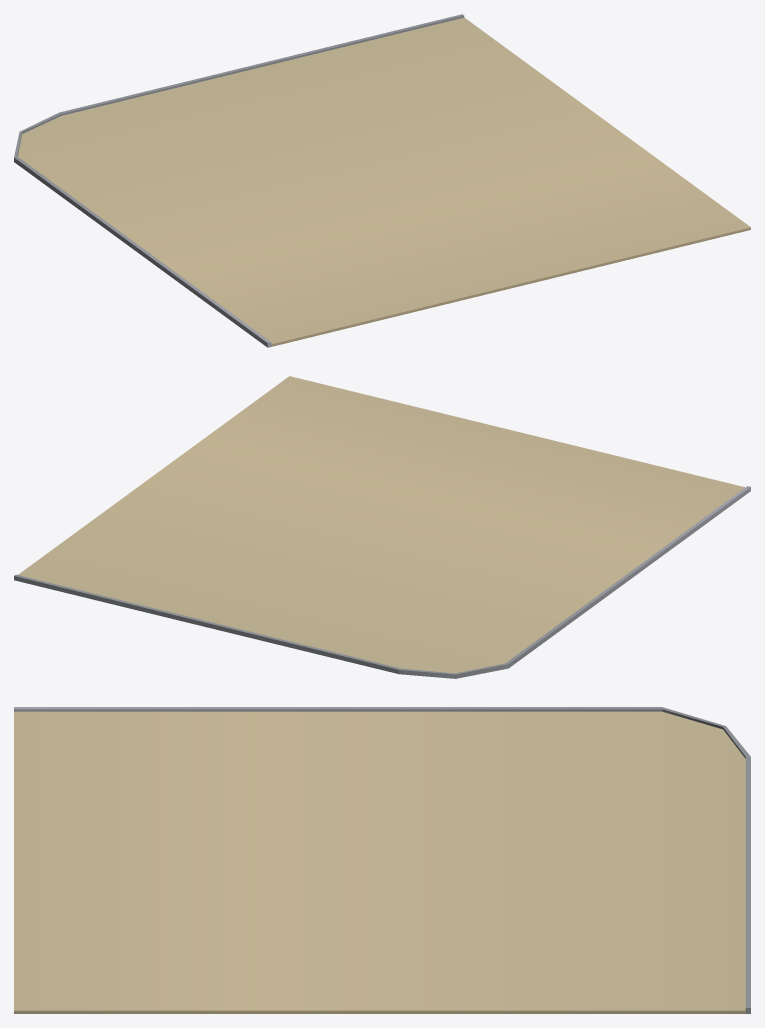
File: sidewalk_39.fbx
The picture shows the model from 3 angles, top to bottom: view 1: azimuth 30°, elevation 25°; view 2: azimuth 150°, elevation 25°; view 3: azimuth 270°, elevation 25°; orthographic projection. The views are drawn at different scales.
Parts seen in each view (by area): view 1: sidewalk_38; view 2: sidewalk_38; view 3: sidewalk_38.
Part boxes in pixels (box(x1,y1,x2,y2)): sidewalk_38: box(14, 14, 750, 347); sidewalk_38: box(14, 376, 750, 678); sidewalk_38: box(14, 707, 750, 1013).
Size of the model in its own units: 2.63 by 0.0237 by 2.72.
Materials: 1 (1 with a texture image).
